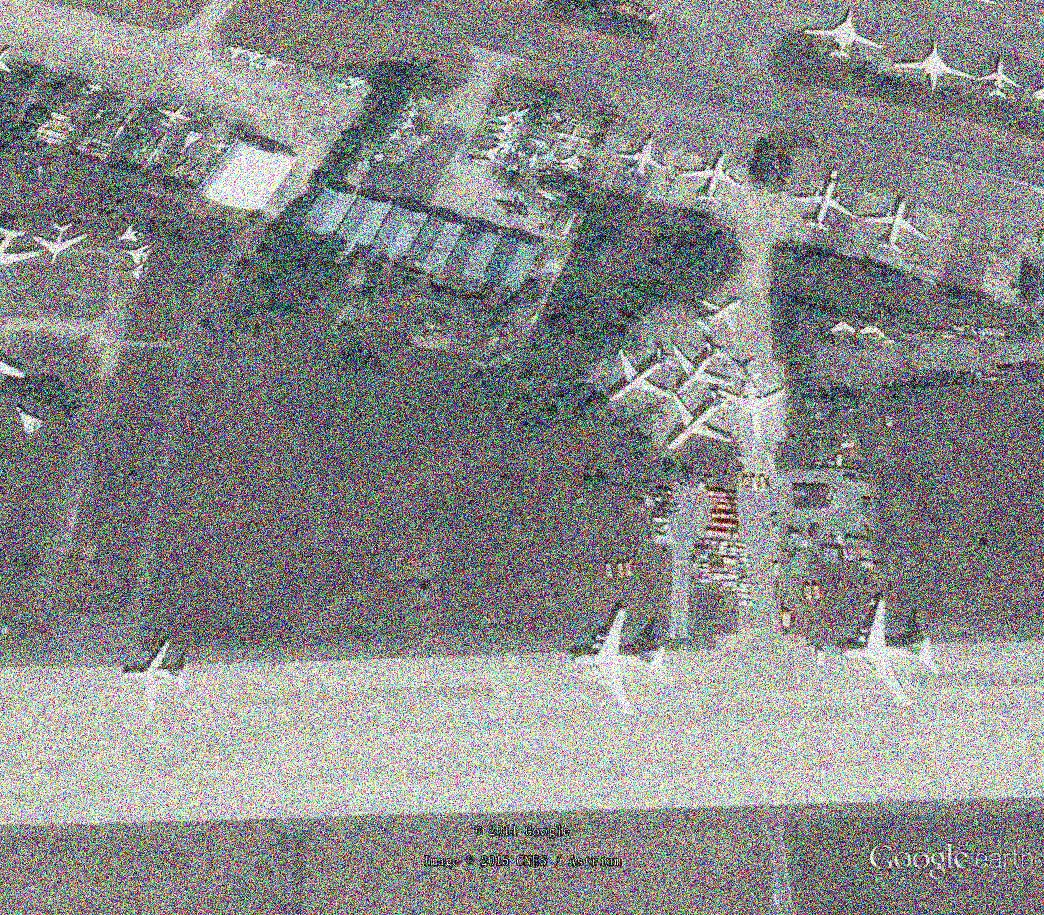aircraft: (834, 590, 947, 714), (566, 606, 670, 730), (714, 368, 792, 445), (889, 37, 981, 99), (663, 331, 740, 402), (786, 165, 861, 237), (122, 639, 191, 717), (802, 7, 890, 68), (661, 386, 737, 454), (605, 342, 682, 409), (670, 146, 747, 210), (857, 193, 933, 257), (30, 215, 92, 270), (614, 128, 669, 179), (978, 49, 1026, 106), (694, 289, 747, 339), (2, 223, 49, 269), (156, 99, 195, 131), (553, 125, 596, 153), (558, 147, 590, 176), (109, 222, 146, 246), (120, 245, 157, 269), (475, 142, 506, 169), (180, 127, 204, 158), (534, 145, 565, 168), (120, 264, 154, 284), (856, 322, 889, 342), (260, 53, 286, 75), (828, 317, 858, 336), (347, 71, 371, 93), (208, 137, 233, 158), (224, 43, 251, 61), (244, 48, 267, 69), (331, 78, 356, 97), (397, 116, 420, 135), (493, 109, 518, 126), (370, 151, 392, 168), (84, 81, 107, 97), (492, 128, 515, 144), (355, 157, 379, 172), (493, 119, 518, 133), (403, 97, 425, 112), (404, 106, 425, 120), (390, 128, 405, 145), (194, 109, 210, 124)
